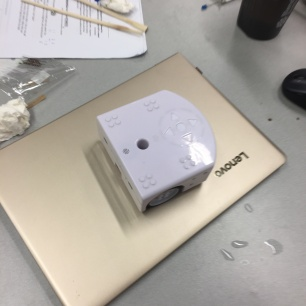thymio: (90, 87, 220, 212)
